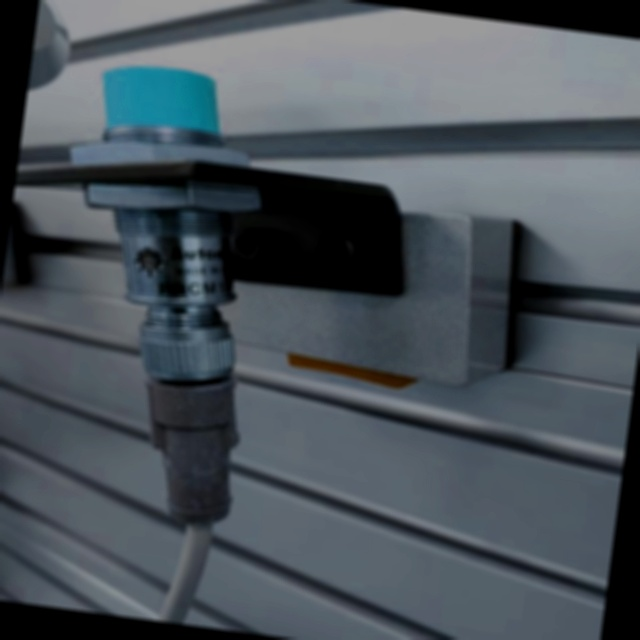inductive sensor: (2, 49, 550, 583)
